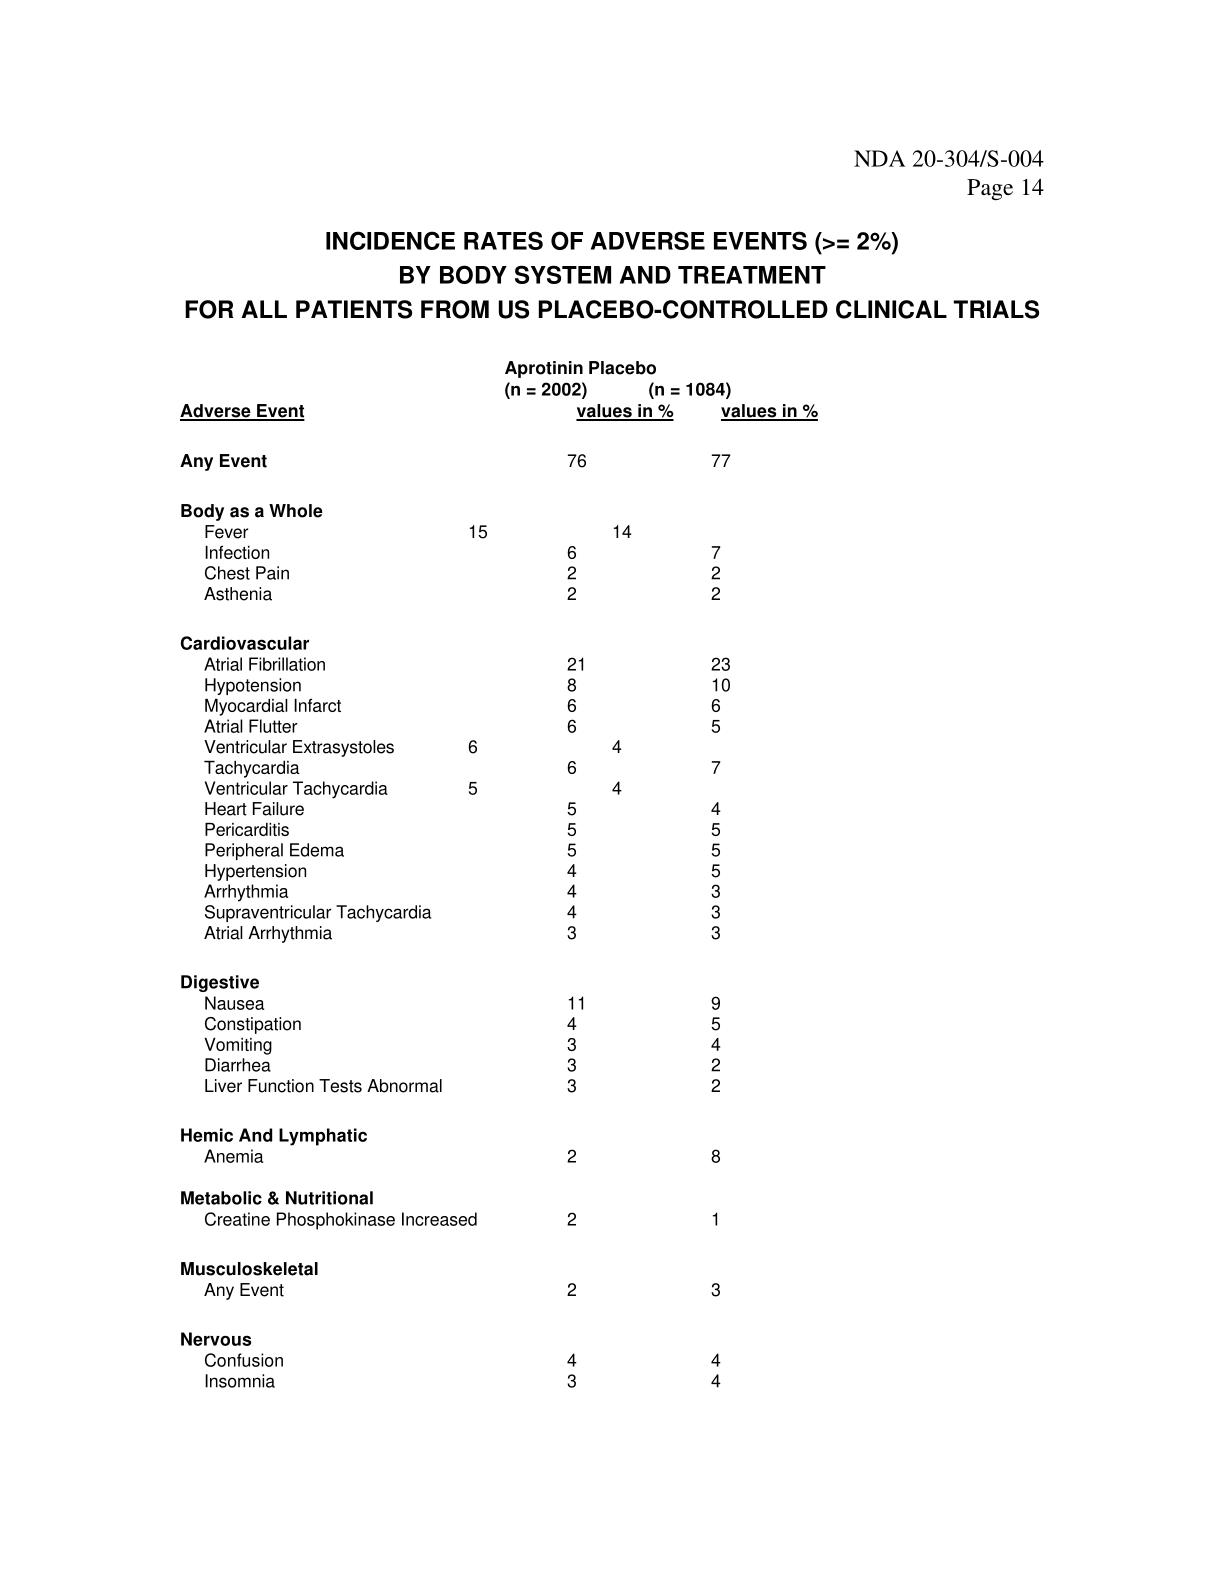nolines: (175, 354, 820, 1390)
